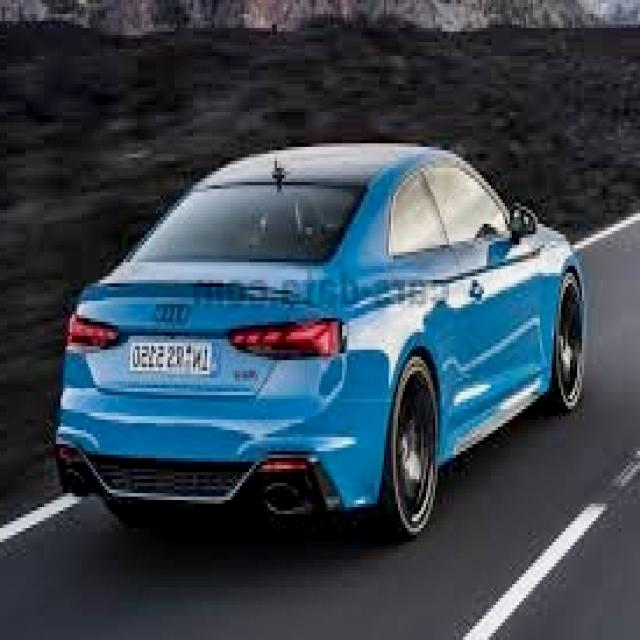blue: (39, 140, 594, 512)
